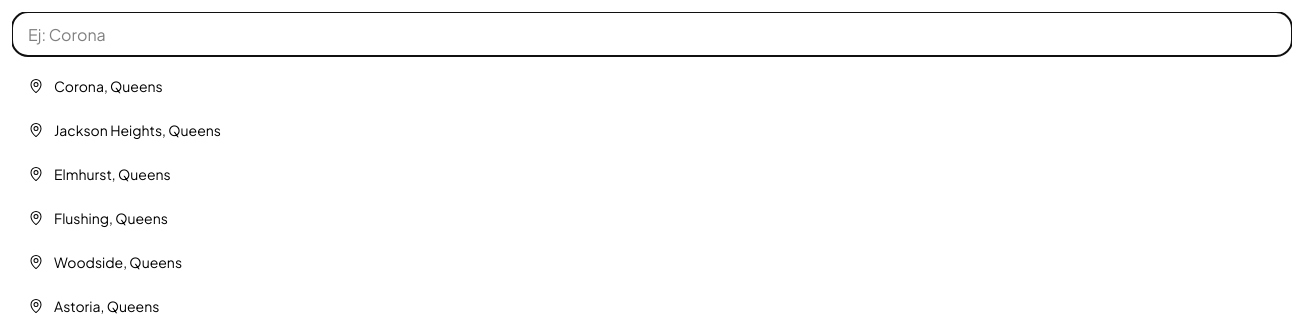
Test: ZoneInput — foco con teclado › al elegir una zona devuelve el foco al campo
Click the button "Corona, Queens": (108,86) [12,64,1292,108]
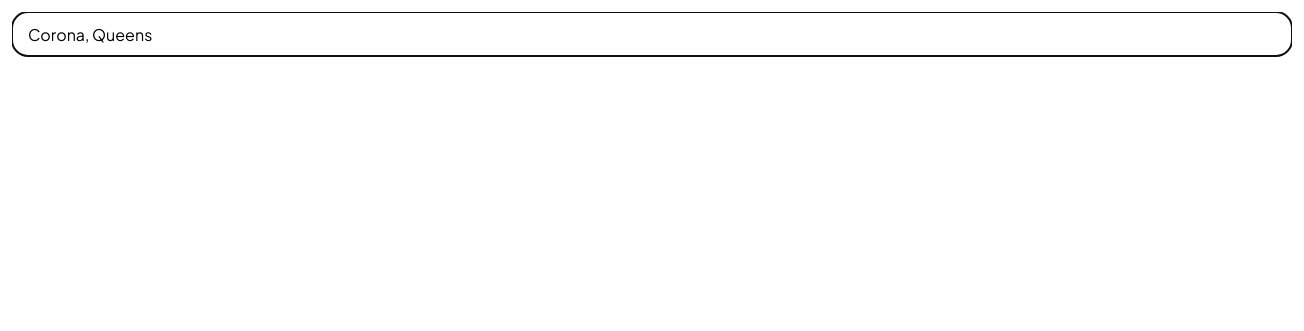
Check: the field holds "Corona, Queens", box [12,12,1292,56]
